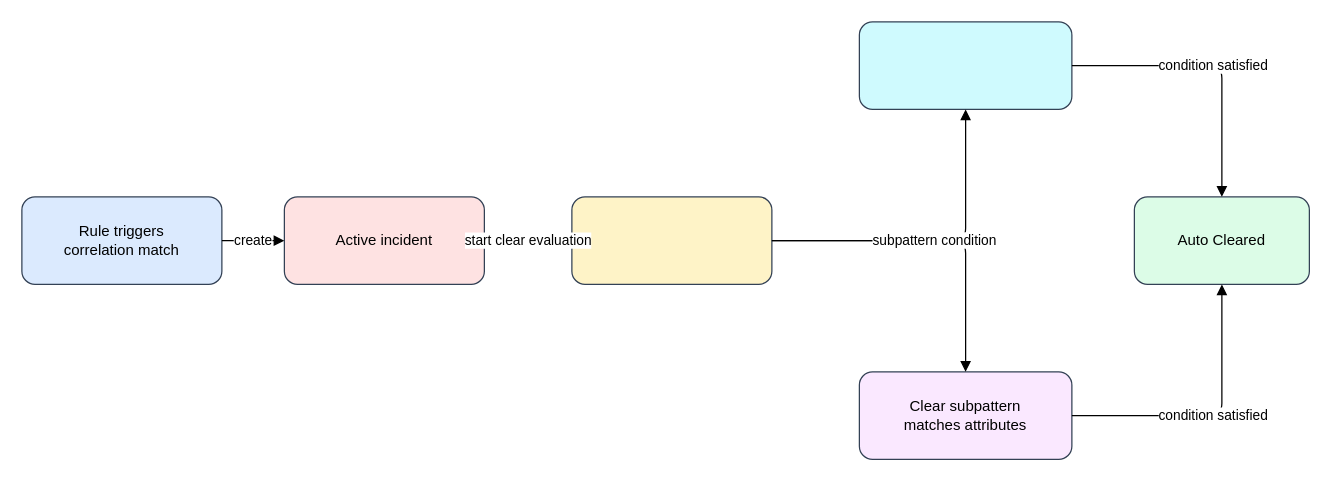
Image size: 1331x481. Some labels were removed from this diagram. The box of each missing label's shape, as (x1, y1, x2, y2) in pixels:
Clear timer configured window: (571, 196, 772, 284)
Original Rule does not trigger: (858, 21, 1072, 109)
